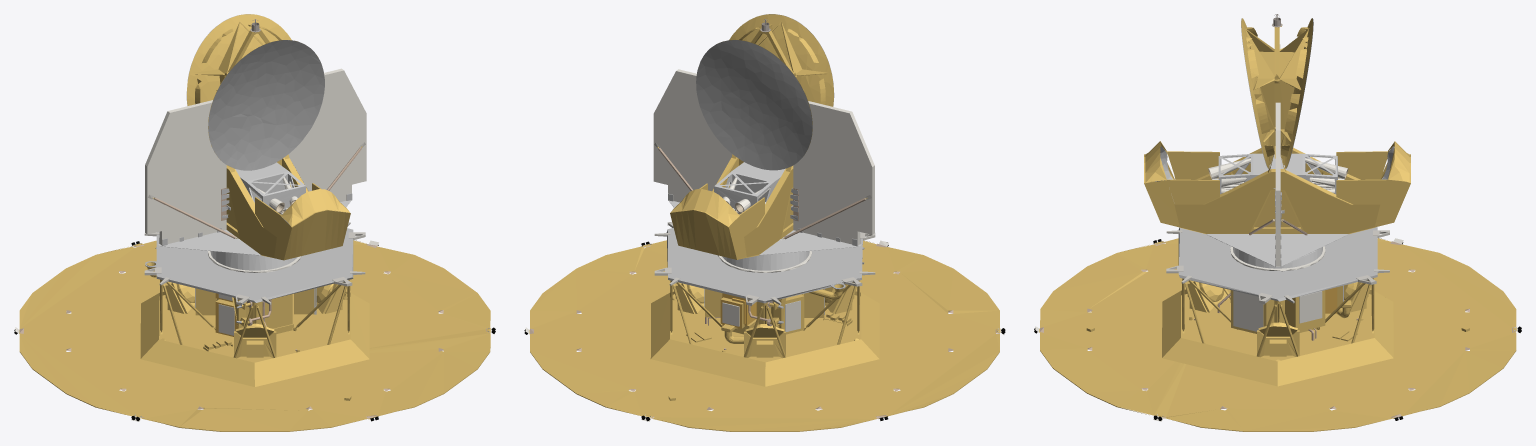
Rendered from wmap.glb.
The picture shows the model from 3 angles, left to right: view 1: azimuth 30°, elevation 25°; view 2: azimuth 150°, elevation 25°; view 3: azimuth 270°, elevation 25°; orthographic projection.
Parts seen in each view (by area): view 1: solar (×3), rad (×4), optics (×5), bus (×6), fpa (×5); view 2: solar (×3), rad (×4), optics (×5), bus (×7), fpa (×6); view 3: solar (×3), fpa (×5), bus (×6), optics (×4), rad (×5).
Part boxes in pixels (<box>): solar (×3): <box>19,240,490,431</box>; rad (×4): <box>144,68,366,305</box>; optics (×5): <box>186,14,349,260</box>; bus (×6): <box>140,279,369,386</box>; fpa (×5): <box>158,159,351,260</box>; solar (×3): <box>529,240,1000,431</box>; rad (×4): <box>653,69,875,306</box>; optics (×5): <box>671,14,833,259</box>; bus (×7): <box>650,280,879,386</box>; fpa (×6): <box>658,148,865,259</box>; solar (×3): <box>1039,238,1516,431</box>; fpa (×5): <box>1167,151,1388,266</box>; bus (×6): <box>1162,278,1393,386</box>; optics (×4): <box>1144,18,1410,233</box>; rad (×5): <box>1166,44,1389,304</box>.
Size of the model in its own units: 278 by 208 by 283.
